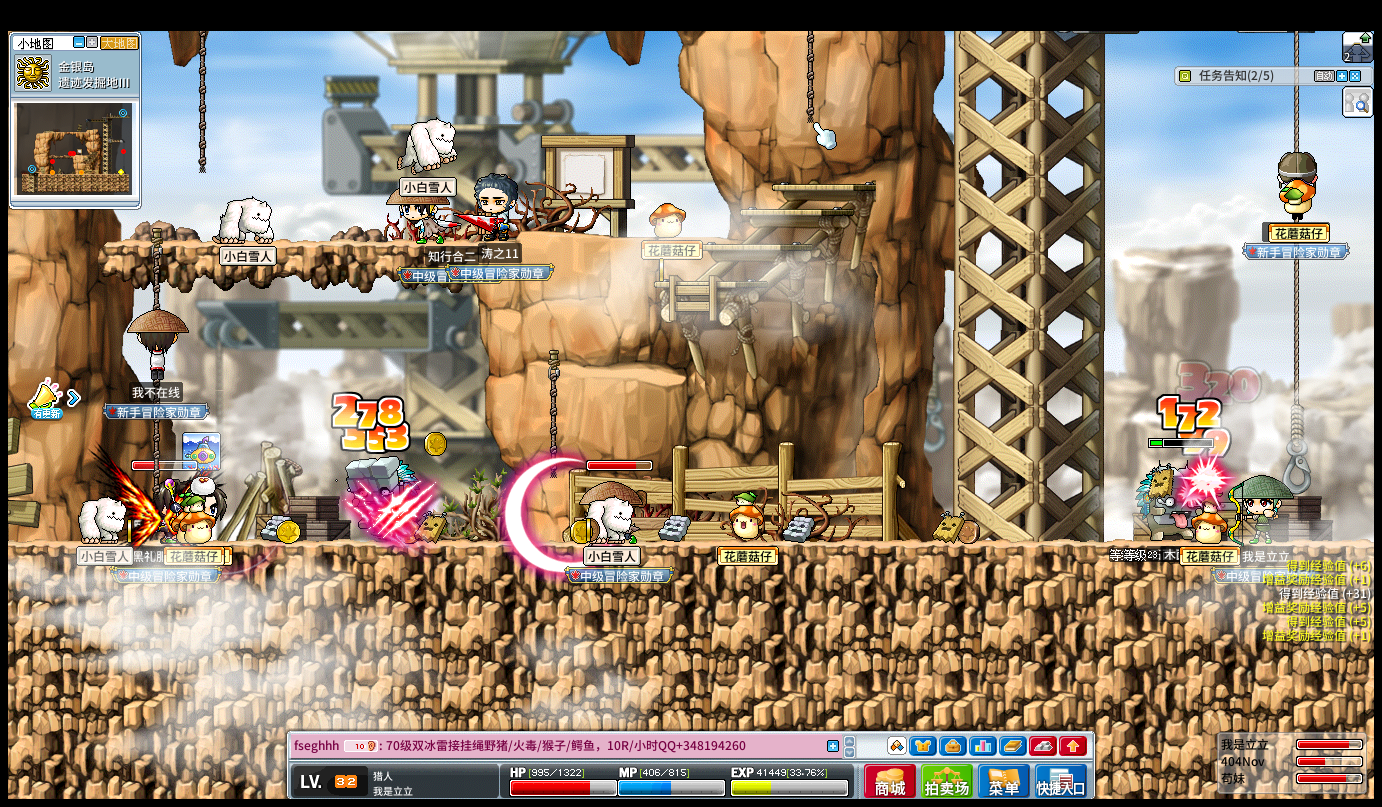floor: (101, 238, 472, 249), (578, 364, 688, 384), (595, 233, 741, 241), (650, 279, 765, 288), (735, 207, 848, 215), (700, 244, 810, 252), (770, 183, 875, 191)
monster: (343, 456, 415, 540), (1134, 463, 1187, 539)
rope: (1292, 257, 1304, 404), (546, 349, 561, 459), (1291, 257, 1301, 407), (198, 29, 207, 172), (150, 227, 161, 308), (1292, 29, 1299, 148), (805, 29, 813, 124), (1289, 405, 1304, 445), (150, 416, 157, 464)
